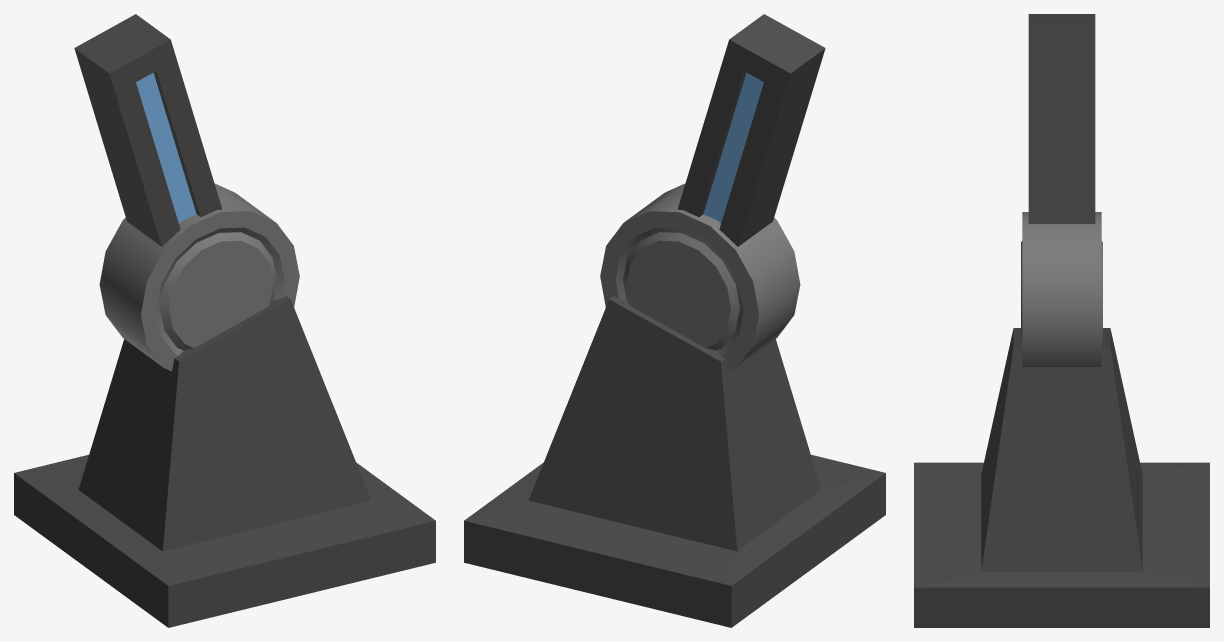
Rendered from mecha_ramie.fbx.
The picture shows the model from 3 angles, left to right: view 1: azimuth 30°, elevation 25°; view 2: azimuth 150°, elevation 25°; view 3: azimuth 270°, elevation 25°; orthographic projection. The views are drawn at different scales.
Parts seen in each view (by area): view 1: Cube, Cylinder, Cube.001; view 2: Cube, Cylinder, Cube.001; view 3: Cube, Cube.001, Cylinder.
Part boxes in pixels (x1,y1,x2,y2): Cube: (14, 296, 435, 627); Cylinder: (99, 183, 299, 371); Cube.001: (74, 14, 222, 246); Cube: (464, 296, 885, 627); Cylinder: (600, 183, 800, 371); Cube.001: (677, 14, 825, 246); Cube: (914, 328, 1209, 627); Cube.001: (1028, 14, 1095, 223); Cylinder: (1021, 212, 1102, 366).
Size of the model in its own units: 200 by 378 by 200.
